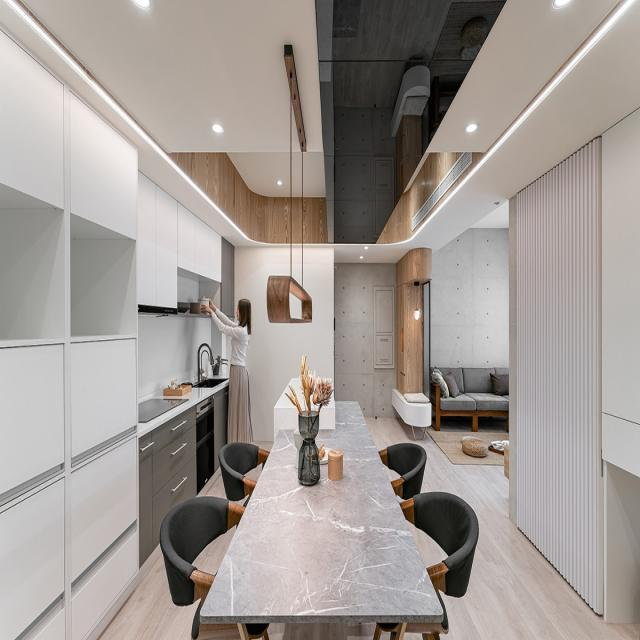table: (160, 390, 483, 638)
